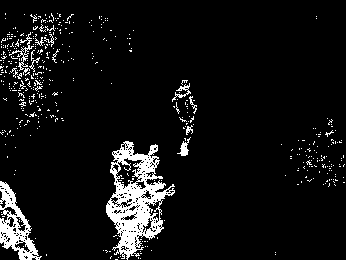person: (172, 79, 198, 157)
